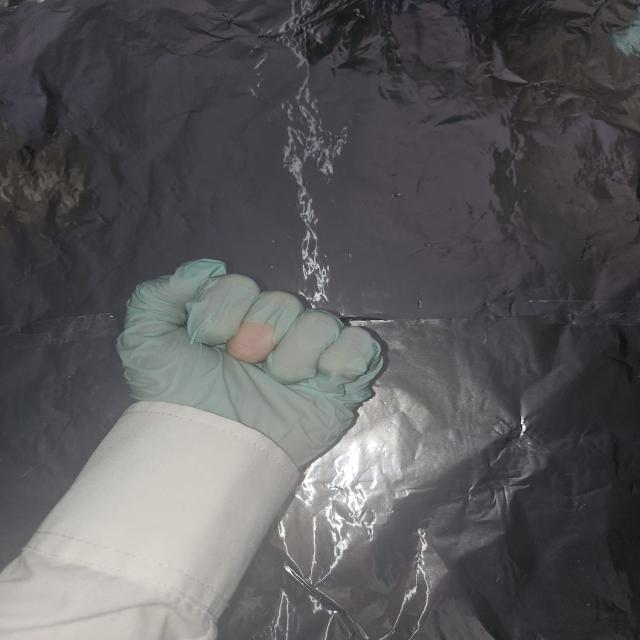gloves_damaged: (117, 255, 390, 478)
